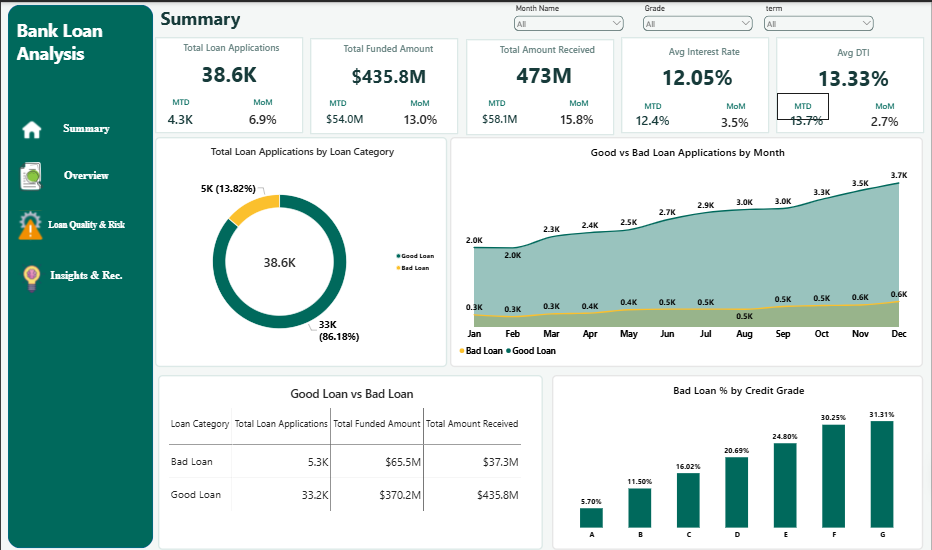

This screenshot's page, from the dashboard's own definition file:
{"tool":"powerbi","page":{"name":"Summary","canvas":[2037,1199],"ordinal":0},"visuals":[{"type":"shape","box":[11,0,326.4,1198.1],"z":0},{"type":"shape","box":[24.4,22.2,302.2,131.1],"z":1000},{"type":"shape","box":[337.8,75.6,325,211.1],"z":2000},{"type":"shape","box":[371.1,75.6,268.9,42.2],"z":3000},{"type":"cardVisual","fields":{"Data":["bank_loan_data.Total Loan Applications"]},"box":[406.7,117.8,184.4,71.1],"z":4000},{"type":"cardVisual","fields":{"Data":["bank_loan_data.MTD Applications"]},"box":[344.4,220,97.8,66.7],"z":5000},{"type":"shape","box":[337.8,188.9,113.3,57.8],"z":6000},{"type":"cardVisual","fields":{"Data":["bank_loan_data.MoM Applications"]},"box":[515.6,220,117.8,66.7],"z":7000},{"type":"shape","box":[515.6,188.9,117.8,57.8],"z":8000},{"type":"shape","box":[677.8,76.7,325,211.1],"z":9000},{"type":"shape","box":[714.4,76.7,268.9,42.2],"z":10000},{"type":"cardVisual","fields":{"Data":["bank_loan_data.Total Funded Amount"]},"box":[751.1,120,197.8,77.8],"z":11000},{"type":"cardVisual","fields":{"Data":["bank_loan_data.MTD Funded Amount"]},"box":[688.9,220,126.7,68.9],"z":12000},{"type":"shape","box":[681.1,190,113.3,57.8],"z":13000},{"type":"cardVisual","fields":{"Data":["bank_loan_data.MoM Funded Amount"]},"box":[860,220,117.8,68.9],"z":14000},{"type":"shape","box":[858.9,190,117.8,57.8],"z":15000},{"type":"shape","box":[1017.8,77.8,325,211.1],"z":16000},{"type":"shape","box":[1062.2,77.8,268.9,42.2],"z":17000},{"type":"cardVisual","fields":{"Data":["bank_loan_data.Total Amount Received"]},"box":[1097.8,120,184.4,71.1],"z":18000},{"type":"shape","box":[1028.9,191.1,113.3,57.8],"z":19000},{"type":"shape","box":[1206.7,191.1,117.8,57.8],"z":20000},{"type":"shape","box":[1357.8,75.6,325,211.1],"z":21000},{"type":"shape","box":[1405.6,83.3,268.9,42.2],"z":22000},{"type":"cardVisual","fields":{"Data":["bank_loan_data.Avg Interest Rate"]},"box":[1426.7,124.4,197.8,71.1],"z":23000},{"type":"shape","box":[1372.2,196.7,113.3,57.8],"z":24000},{"type":"cardVisual","fields":{"Data":["bank_loan_data.MoM Avg Interest Rate"]},"box":[1548.9,226.7,117.8,66.7],"z":25000},{"type":"shape","box":[1550,196.7,117.8,57.8],"z":26000},{"type":"shape","box":[1697.8,75.6,325,211.1],"z":27000},{"type":"shape","box":[1732.5,84.4,268.9,42.2],"z":28000},{"type":"cardVisual","fields":{"Data":["bank_loan_data.Avg DTI"]},"box":[1768.9,126.7,193.3,71.1],"z":29000},{"type":"shape","box":[1699.2,197.8,113.3,57.8],"z":30000},{"type":"cardVisual","fields":{"Data":["bank_loan_data.MoM Avg DTI"]},"box":[1877.8,228.9,117.8,57.8],"z":31000},{"type":"shape","box":[1877,197.8,117.8,57.8],"z":32000},{"type":"cardVisual","fields":{"Data":["bank_loan_data.MTD Amount Received"]},"box":[1028.9,220,126.7,68.9],"z":33000},{"type":"cardVisual","fields":{"Data":["bank_loan_data.MoM Amount Received"]},"box":[1191.1,220,140,68.9],"z":34000},{"type":"cardVisual","fields":{"Data":["bank_loan_data.MTD Avg Interest Rate"]},"box":[1368.9,226.7,117.8,60],"z":35000},{"type":"cardVisual","fields":{"Data":["bank_loan_data.MTD Avg DTI"]},"box":[1700,224.4,131.1,62.2],"z":36000},{"type":"shape","box":[344.4,0,371.1,75.6],"z":37000},{"type":"slicer","fields":{"Values":["Date.Month Name"]},"box":[1120,2.2,248.9,68.9],"z":38000},{"type":"donutChart","fields":{"Category":["bank_loan_data.Loan Category"],"Y":["bank_loan_data.Total Loan Applications"]},"box":[337.3,293.5,639.6,503.8],"z":39000},{"type":"pivotTable","title":"Good Loan vs Bad Loan","fields":{"Rows":["bank_loan_data.Loan Category"],"Values":["bank_loan_data.Total Loan Applications","bank_loan_data.Total Funded Amount","bank_loan_data.Total Amount Received"]},"box":[343.9,814.8,843.3,383.3],"z":40000},{"type":"areaChart","title":"Good vs Bad Loan Applications by Month","fields":{"Category":["Date.Month Name"],"Series":["bank_loan_data.Loan Category"],"Y":["bank_loan_data.Total Loan Applications"]},"box":[983.5,293.5,1036,503.8],"z":41000},{"type":"clusteredColumnChart","title":"Bad Loan % by Credit Grade","fields":{"Category":["bank_loan_data.grade"],"Y":["bank_loan_data.Bad Loan %"]},"box":[1206.9,814.8,812.6,383.3],"z":42000},{"type":"slicer","fields":{"Values":["bank_loan_data.grade"]},"box":[1402.2,2.2,248.9,68.9],"z":43000},{"type":"slicer","fields":{"Values":["bank_loan_data.term"]},"box":[1666.7,2.2,248.9,68.9],"z":44000},{"type":"actionButton","box":[24.1,234.4,302.3,85.4],"z":45000},{"type":"actionButton","box":[24.1,337.3,302.3,85.4],"z":46000},{"type":"actionButton","box":[24.1,444.6,302.3,85.4],"z":47000},{"type":"actionButton","box":[24.1,556.3,302.3,85.4],"z":48000}]}

Visuals, with their boxes on the page's 2037x1199 design canvas (x1, y1, x2, y2). These are canvas units, not pixel positions in the 932x550 screenshot, which may show the page scaled, cropped or inside an application window:
shape: bbox=[11, 0, 337, 1198]
shape: bbox=[24, 22, 327, 153]
shape: bbox=[338, 76, 663, 287]
shape: bbox=[371, 76, 640, 118]
cardVisual - bank_loan_data.Total Loan Applications: bbox=[407, 118, 591, 189]
cardVisual - bank_loan_data.MTD Applications: bbox=[344, 220, 442, 287]
shape: bbox=[338, 189, 451, 247]
cardVisual - bank_loan_data.MoM Applications: bbox=[516, 220, 633, 287]
shape: bbox=[516, 189, 633, 247]
shape: bbox=[678, 77, 1003, 288]
shape: bbox=[714, 77, 983, 119]
cardVisual - bank_loan_data.Total Funded Amount: bbox=[751, 120, 949, 198]
cardVisual - bank_loan_data.MTD Funded Amount: bbox=[689, 220, 816, 289]
shape: bbox=[681, 190, 794, 248]
cardVisual - bank_loan_data.MoM Funded Amount: bbox=[860, 220, 978, 289]
shape: bbox=[859, 190, 977, 248]
shape: bbox=[1018, 78, 1343, 289]
shape: bbox=[1062, 78, 1331, 120]
cardVisual - bank_loan_data.Total Amount Received: bbox=[1098, 120, 1282, 191]
shape: bbox=[1029, 191, 1142, 249]
shape: bbox=[1207, 191, 1324, 249]
shape: bbox=[1358, 76, 1683, 287]
shape: bbox=[1406, 83, 1674, 126]
cardVisual - bank_loan_data.Avg Interest Rate: bbox=[1427, 124, 1624, 196]
shape: bbox=[1372, 197, 1486, 254]
cardVisual - bank_loan_data.MoM Avg Interest Rate: bbox=[1549, 227, 1667, 293]
shape: bbox=[1550, 197, 1668, 254]
shape: bbox=[1698, 76, 2023, 287]
shape: bbox=[1732, 84, 2001, 127]
cardVisual - bank_loan_data.Avg DTI: bbox=[1769, 127, 1962, 198]
shape: bbox=[1699, 198, 1812, 256]
cardVisual - bank_loan_data.MoM Avg DTI: bbox=[1878, 229, 1996, 287]
shape: bbox=[1877, 198, 1995, 256]
cardVisual - bank_loan_data.MTD Amount Received: bbox=[1029, 220, 1156, 289]
cardVisual - bank_loan_data.MoM Amount Received: bbox=[1191, 220, 1331, 289]
cardVisual - bank_loan_data.MTD Avg Interest Rate: bbox=[1369, 227, 1487, 287]
cardVisual - bank_loan_data.MTD Avg DTI: bbox=[1700, 224, 1831, 287]
shape: bbox=[344, 0, 716, 76]
slicer - Date.Month Name: bbox=[1120, 2, 1369, 71]
donutChart - bank_loan_data.Loan Category x bank_loan_data.Total Loan Applications: bbox=[337, 294, 977, 797]
"Good Loan vs Bad Loan" pivotTable: bbox=[344, 815, 1187, 1198]
"Good vs Bad Loan Applications by Month" areaChart: bbox=[984, 294, 2020, 797]
"Bad Loan % by Credit Grade" clusteredColumnChart: bbox=[1207, 815, 2020, 1198]
slicer - bank_loan_data.grade: bbox=[1402, 2, 1651, 71]
slicer - bank_loan_data.term: bbox=[1667, 2, 1916, 71]
actionButton: bbox=[24, 234, 326, 320]
actionButton: bbox=[24, 337, 326, 423]
actionButton: bbox=[24, 445, 326, 530]
actionButton: bbox=[24, 556, 326, 642]
